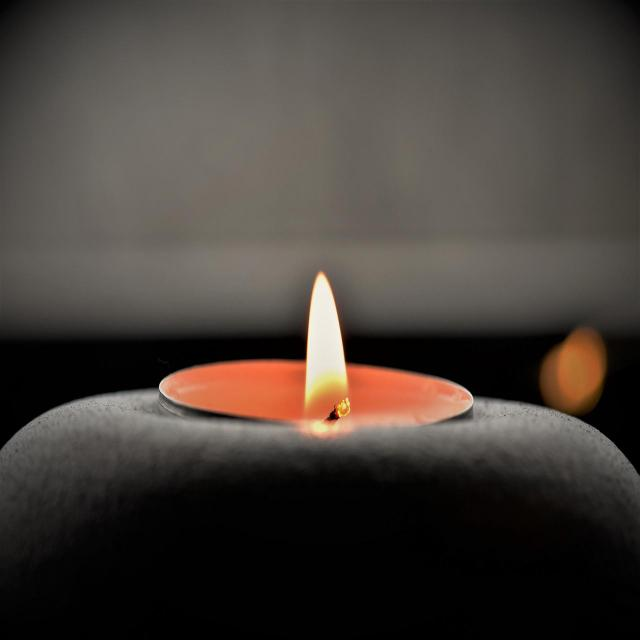Fire_Save: (158, 269, 474, 437), (538, 324, 608, 416)
